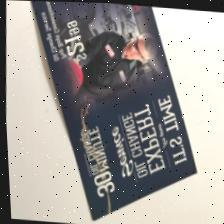paper: (30, 1, 216, 224)
